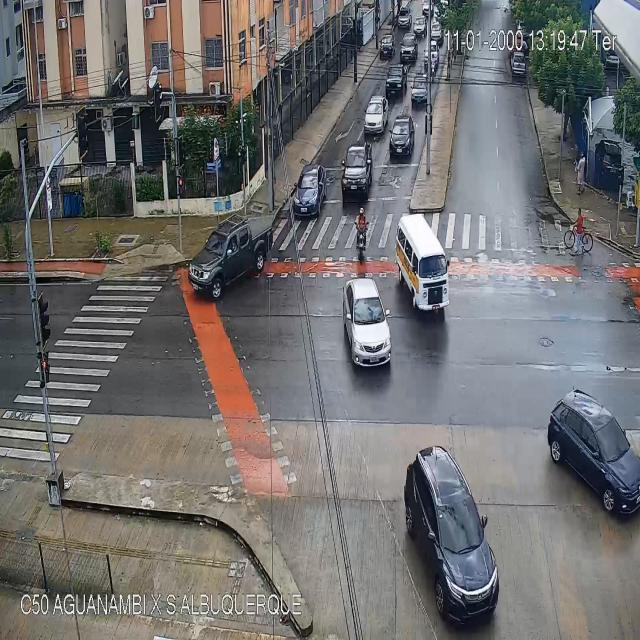Car: (405, 447, 500, 620), (548, 389, 640, 514), (189, 218, 274, 296), (400, 212, 450, 311), (342, 280, 390, 366), (293, 165, 328, 219), (341, 144, 375, 196), (390, 115, 415, 162), (362, 95, 388, 136), (385, 64, 408, 96), (411, 72, 431, 104), (400, 32, 417, 61), (424, 40, 440, 66), (379, 34, 395, 56), (512, 51, 526, 76), (577, 152, 585, 194), (430, 21, 444, 44), (398, 8, 412, 29), (414, 17, 426, 33)
Motorcycle: (356, 205, 370, 261), (431, 54, 436, 82)
